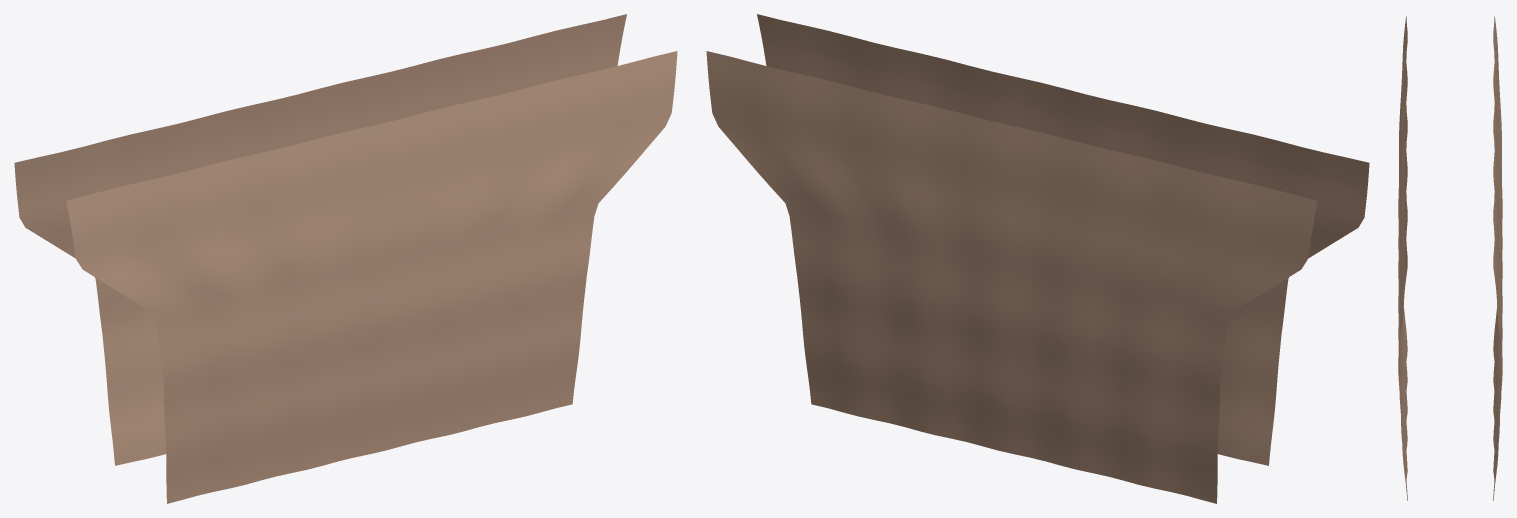
Rendered from clean.glb.
The picture shows the model from 3 angles, left to right: view 1: azimuth 30°, elevation 25°; view 2: azimuth 150°, elevation 25°; view 3: azimuth 270°, elevation 25°; orthographic projection. The views are drawn at different scales.
Parts seen in each view (by area): view 1: clean:manual-tshirt-01.front, clean:manual-tshirt-01.back; view 2: clean:manual-tshirt-01.back, clean:manual-tshirt-01.front; view 3: clean:manual-tshirt-01.front, clean:manual-tshirt-01.back.
Boxes of the visible parts, x1=… form: clean:manual-tshirt-01.front: x1=66, y1=51, x2=677, y2=503; clean:manual-tshirt-01.back: x1=14, y1=14, x2=626, y2=465; clean:manual-tshirt-01.back: x1=706, y1=51, x2=1317, y2=503; clean:manual-tshirt-01.front: x1=757, y1=14, x2=1369, y2=465; clean:manual-tshirt-01.front: x1=1398, y1=16, x2=1407, y2=500; clean:manual-tshirt-01.back: x1=1493, y1=16, x2=1502, y2=500.
Size of the model in its own units: 1.45 by 0.74 by 0.2508.
